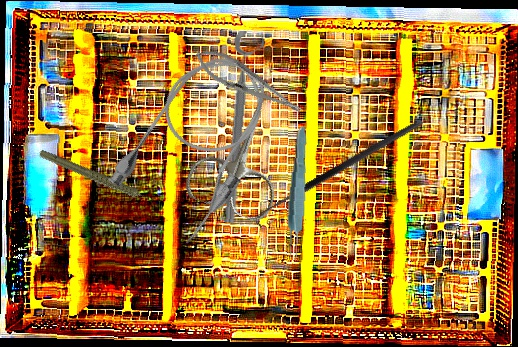Cannula: (101, 38, 295, 250)
Fixation Ring: (219, 30, 267, 225)
Handpiece: (37, 128, 157, 230)
Hook Surgical: (251, 117, 429, 230)
Iris Scissors: (180, 85, 305, 226)
Needle Holder: (189, 40, 308, 125)
Tissue Forceps: (283, 126, 311, 262)
